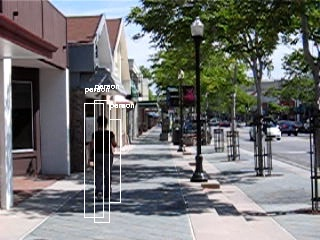person: (90, 114, 117, 202), (89, 114, 116, 202), (91, 114, 118, 202), (90, 113, 117, 201), (90, 115, 117, 203)
target_negative: (55, 153, 302, 224), (13, 26, 177, 121), (156, 197, 279, 225), (38, 7, 209, 19), (20, 88, 42, 143), (49, 132, 65, 143)
